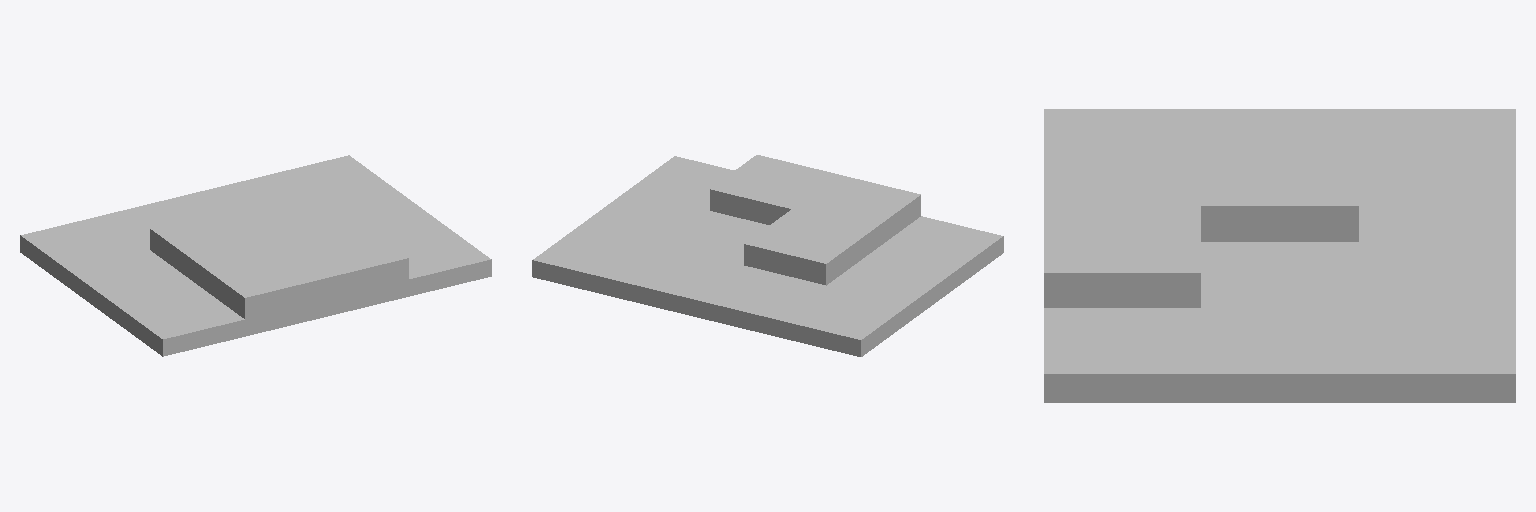
The robot description file, URDF, robot "custom_chess_board":
<?xml version="1.0"?>
<robot name="custom_chess_board">
  <link name="base_link">
    <inertial>
      <mass value="1.0"/>
      <inertia ixx="0.166667" ixy="0.0" ixz="0.0" iyy="0.166667" iyz="0.0" izz="0.166667"/>
    </inertial>
    <visual>
      <origin xyz="0 0 0" rpy="1.5708 0 0"/>
      <geometry><mesh filename="board.obj" scale="1 1 1"/></geometry>
      <material name="board_material"><color rgba="0.8 0.8 0.8 1"/></material>
    </visual>
    <collision>
      <origin xyz="0 0 0.01" rpy="0 0 0"/>
      <geometry>
        <box size="0.4 0.3 0.02"/>
      </geometry>
    </collision>
  </link>

  <!-- Row 1 -->
  <link name="0"><inertial><mass value="0.1"/><inertia ixx="0.01" ixy="0.0" ixz="0.0" iyy="0.01" iyz="0.0" izz="0.01"/></inertial></link>
  <joint name="slot_0_joint" type="fixed"><parent link="base_link"/><child link="0"/><origin xyz="-0.150 -0.100 0.020" rpy="0 0 0"/></joint>

  <link name="1"><inertial><mass value="0.1"/><inertia ixx="0.01" ixy="0.0" ixz="0.0" iyy="0.01" iyz="0.0" izz="0.01"/></inertial></link>
  <joint name="slot_1_joint" type="fixed"><parent link="base_link"/><child link="1"/><origin xyz="0.150 -0.100 0.020" rpy="0 0 0"/></joint>

  <!-- Row 2: Slots for Block a, b, c, d -->
  <link name="a"><inertial><mass value="0.1"/><inertia ixx="0.01" ixy="0.0" ixz="0.0" iyy="0.01" iyz="0.0" izz="0.01"/></inertial></link>
  <joint name="slot_a_joint" type="fixed"><parent link="base_link"/><child link="a"/><origin xyz="-0.150 0.000 0.020" rpy="0 0 0"/></joint>

  <link name="b"><inertial><mass value="0.1"/><inertia ixx="0.01" ixy="0.0" ixz="0.0" iyy="0.01" iyz="0.0" izz="0.01"/></inertial></link>
  <joint name="slot_b_joint" type="fixed"><parent link="base_link"/><child link="b"/><origin xyz="-0.050 0.000 0.020" rpy="0 0 0"/></joint>

  <link name="c"><inertial><mass value="0.1"/><inertia ixx="0.01" ixy="0.0" ixz="0.0" iyy="0.01" iyz="0.0" izz="0.01"/></inertial></link>
  <joint name="slot_c_joint" type="fixed"><parent link="base_link"/><child link="c"/><origin xyz="0.050 0.000 0.020" rpy="0 0 0"/></joint>

  <link name="d"><inertial><mass value="0.1"/><inertia ixx="0.01" ixy="0.0" ixz="0.0" iyy="0.01" iyz="0.0" izz="0.01"/></inertial></link>
  <joint name="slot_d_joint" type="fixed"><parent link="base_link"/><child link="d"/><origin xyz="0.150 0.000 0.020" rpy="0 0 0"/></joint>

  <!-- Row 3: Slots for Block A, B, C, D -->
  <link name="A"><inertial><mass value="0.1"/><inertia ixx="0.01" ixy="0.0" ixz="0.0" iyy="0.01" iyz="0.0" izz="0.01"/></inertial></link>
  <joint name="slot_A_joint" type="fixed"><parent link="base_link"/><child link="A"/><origin xyz="-0.150 0.100 0.020" rpy="0 0 0"/></joint>

  <link name="B"><inertial><mass value="0.1"/><inertia ixx="0.01" ixy="0.0" ixz="0.0" iyy="0.01" iyz="0.0" izz="0.01"/></inertial></link>
  <joint name="slot_B_joint" type="fixed"><parent link="base_link"/><child link="B"/><origin xyz="-0.050 0.100 0.020" rpy="0 0 0"/></joint>

  <link name="C"><inertial><mass value="0.1"/><inertia ixx="0.01" ixy="0.0" ixz="0.0" iyy="0.01" iyz="0.0" izz="0.01"/></inertial></link>
  <joint name="slot_C_joint" type="fixed"><parent link="base_link"/><child link="C"/><origin xyz="0.050 0.100 0.020" rpy="0 0 0"/></joint>

  <link name="D"><inertial><mass value="0.1"/><inertia ixx="0.01" ixy="0.0" ixz="0.0" iyy="0.01" iyz="0.0" izz="0.01"/></inertial></link>
  <joint name="slot_D_joint" type="fixed"><parent link="base_link"/><child link="D"/><origin xyz="0.150 0.100 0.020" rpy="0 0 0"/></joint>
</robot>

--- Render facts (derived) ---
3 views of the same robot in one strip: view 1: azimuth 30°, elevation 25°; view 2: azimuth 150°, elevation 25°; view 3: azimuth 270°, elevation 25° (orthographic).
Robot: custom_chess_board — 11 links, 10 joints (10 fixed); root link base_link; default pose: all joints at 0.
Visible links, largest first — view 1: base_link; view 2: base_link; view 3: base_link.
Link boxes in pixels (x1=…): base_link: x1=20, y1=155, x2=491, y2=356; base_link: x1=532, y1=155, x2=1003, y2=356; base_link: x1=1044, y1=109, x2=1515, y2=402.
Size in the robot's own frame: 0.4 by 0.3 by 0.045 metres.
Meshes: 1 distinct files referenced, 1 mesh visuals loaded (1 OBJ).
